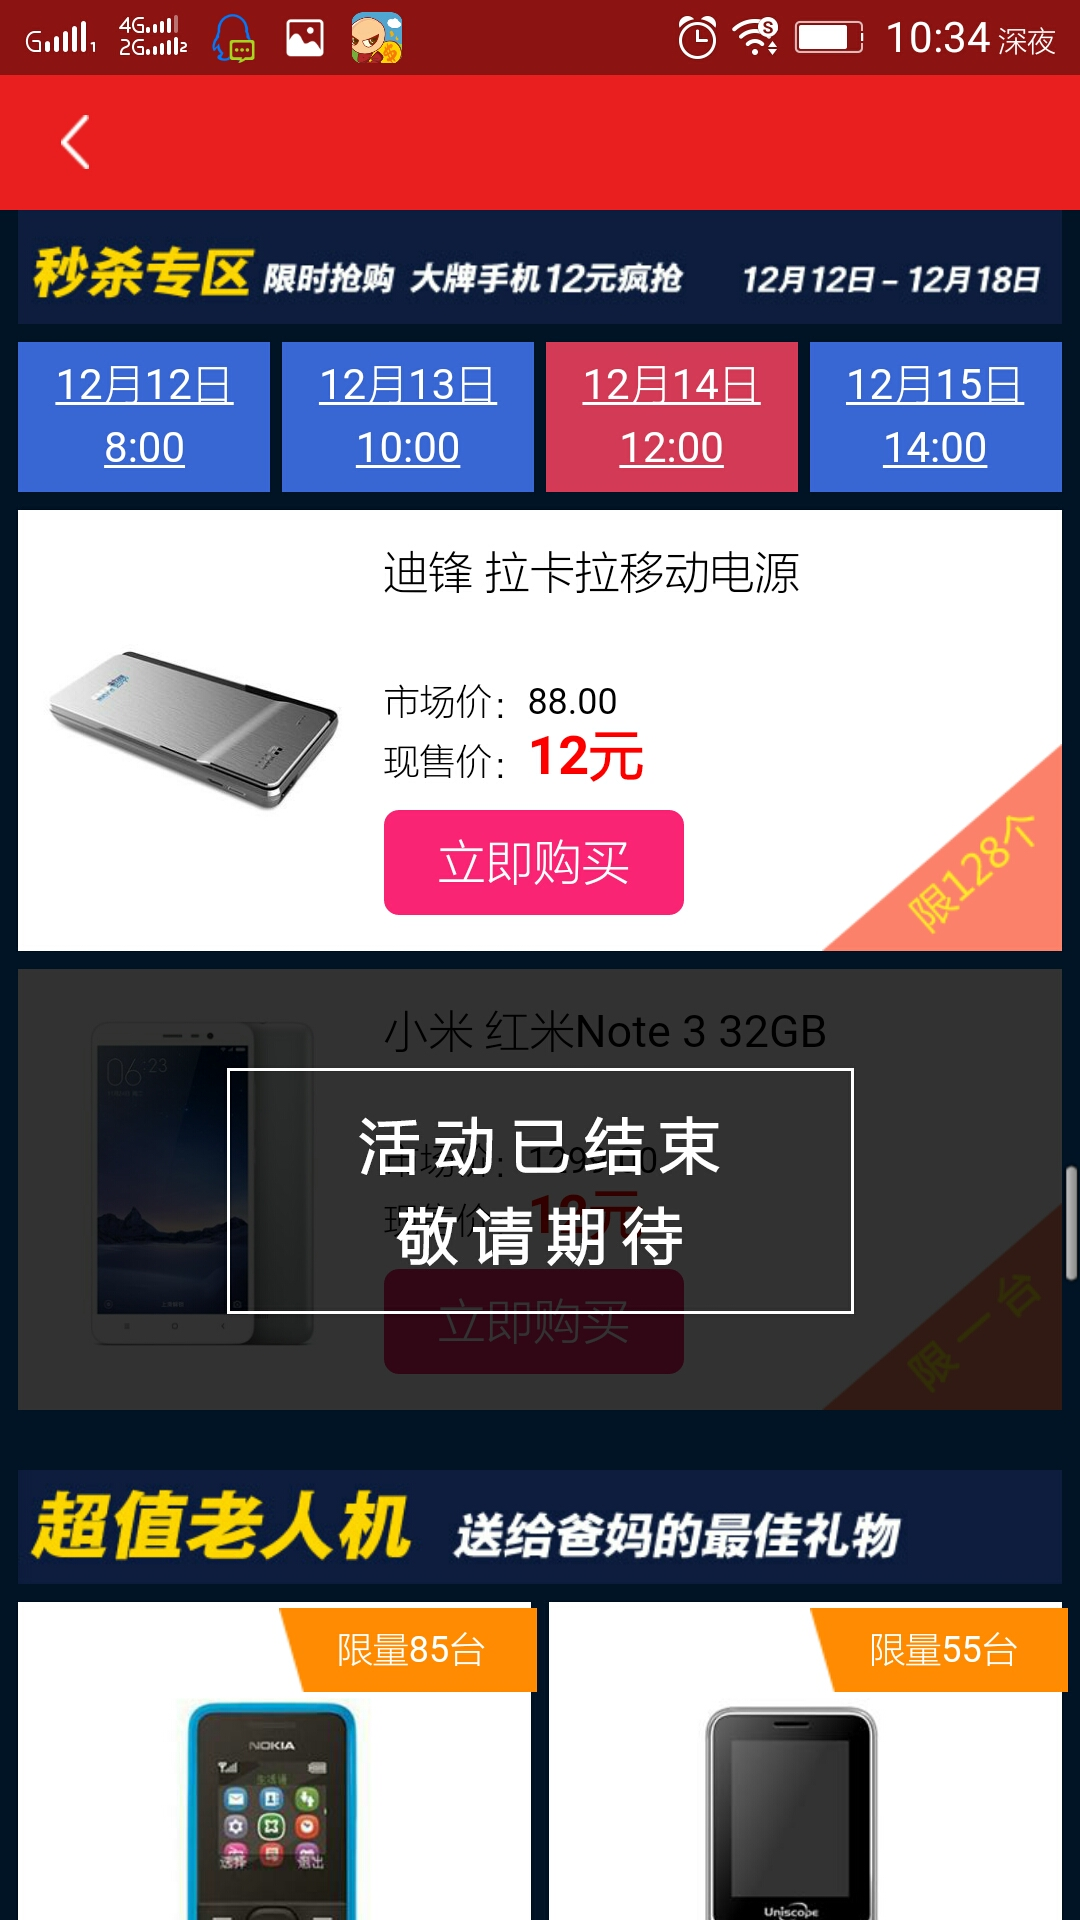alert: (200, 1044, 895, 1331)
button: (365, 806, 713, 922)
